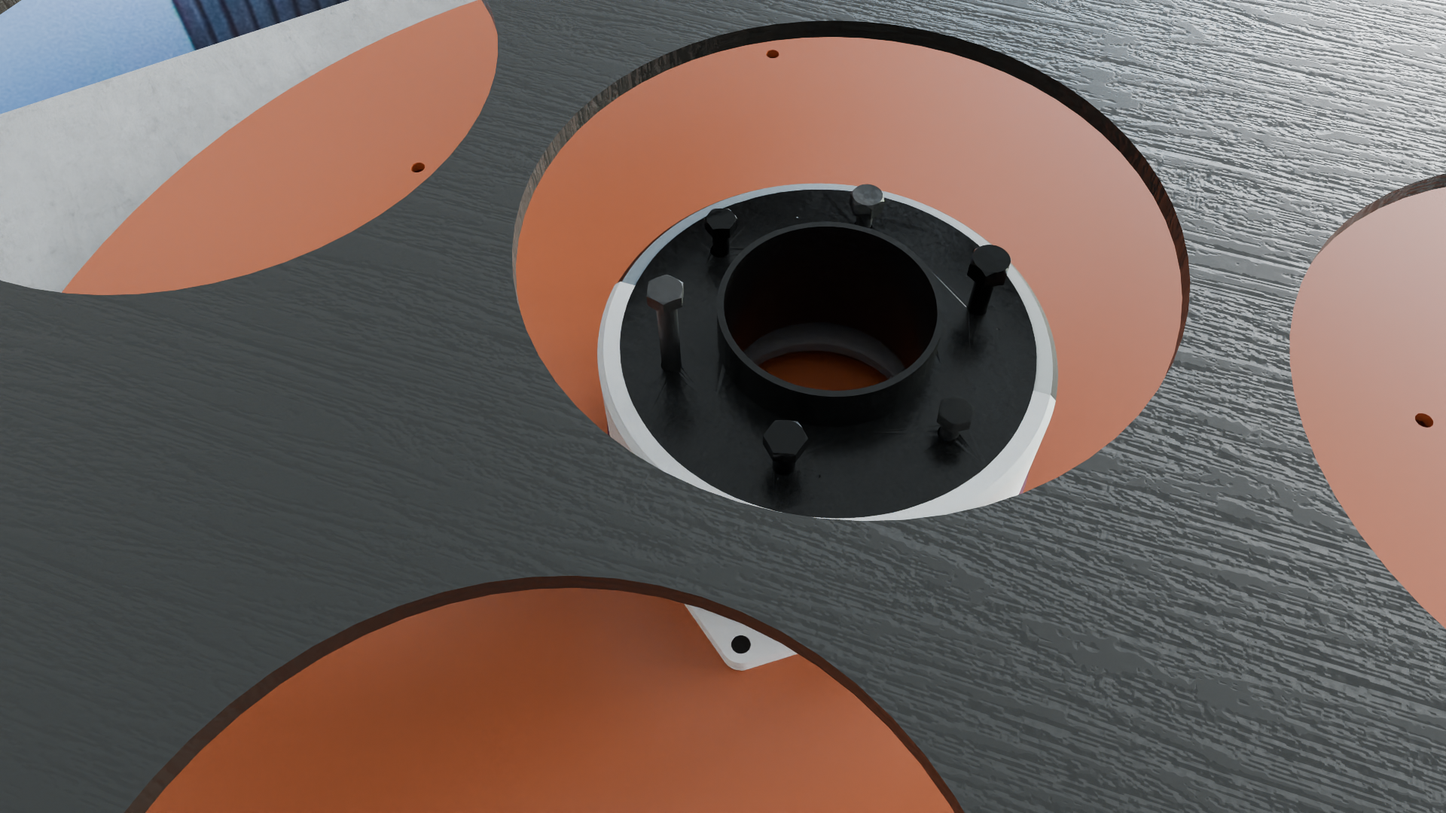bolt: (763, 420, 808, 455), (970, 245, 1011, 277), (646, 275, 683, 305), (939, 396, 974, 426), (851, 184, 884, 209), (704, 209, 737, 230)
